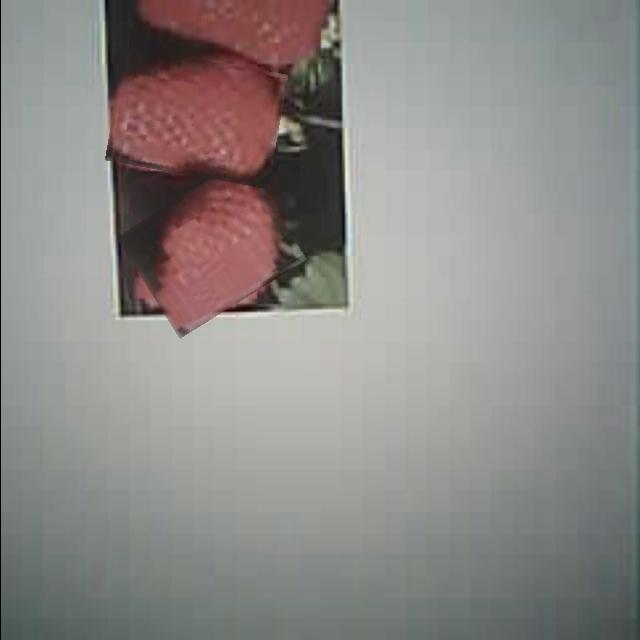strawberry: (126, 174, 296, 324), (109, 52, 282, 182)
